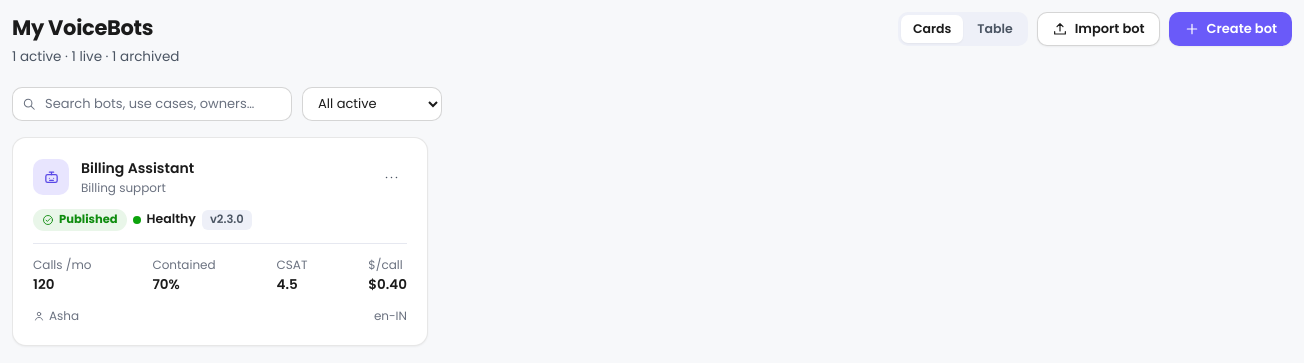
it: Archived filter › hides archived bots from the default view and shows them under Archived
Check: the text "Billing Assistant" is shown, box [81,158,194,178]
Check: the text "Seasonal Promo Bot" is not shown
Select "Archived" in the dropdown named "Filter by status": (372, 104) [302,87,442,121]
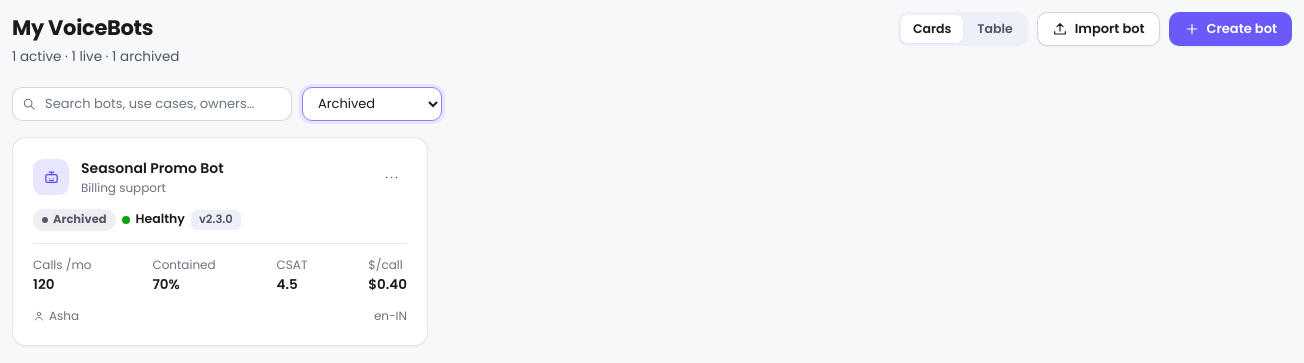
Check: the text "Seasonal Promo Bot" is shown, box [81,158,224,178]
Check: the button "Billing Assistant" is gone
Select "Published" in the dropdown named "Filter by status": (372, 104) [302,87,442,121]
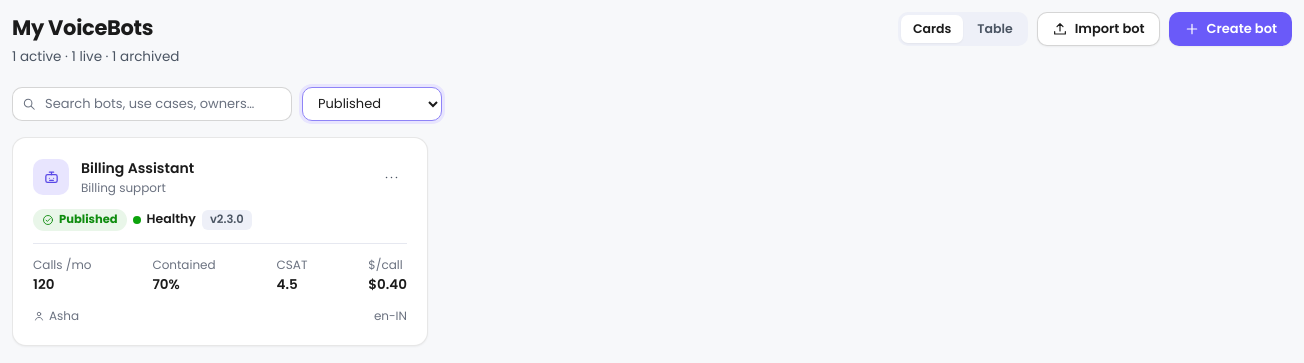
Check: the text "Billing Assistant" is shown, box [81,158,194,178]
Check: the button "Seasonal Promo Bot" is gone
